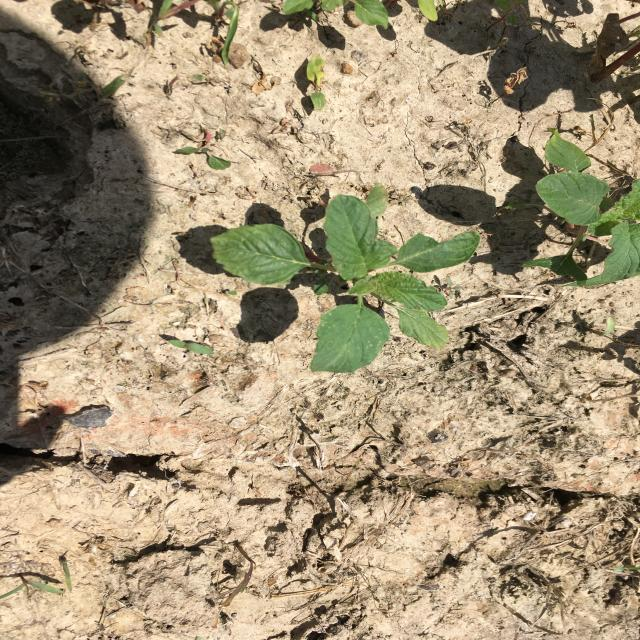PalmerAmaranth: (209, 182, 481, 373), (520, 128, 640, 284)
